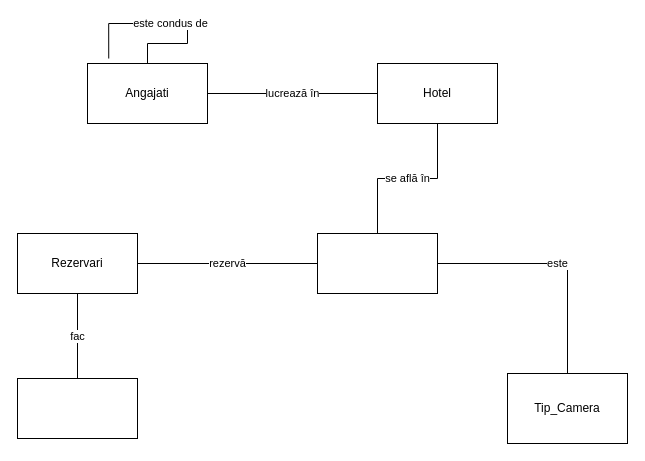
Some shapes in this 645 by 461 pixel diagram are drawn without their labels. The centre of each missing label's shape, as x and y in pixels:
Camera: (377,263)
Clienti: (77,408)
